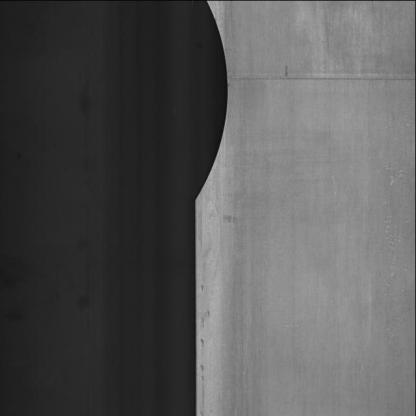crescent_gap: (176, 2, 236, 211)
welding_line: (210, 56, 415, 92)
